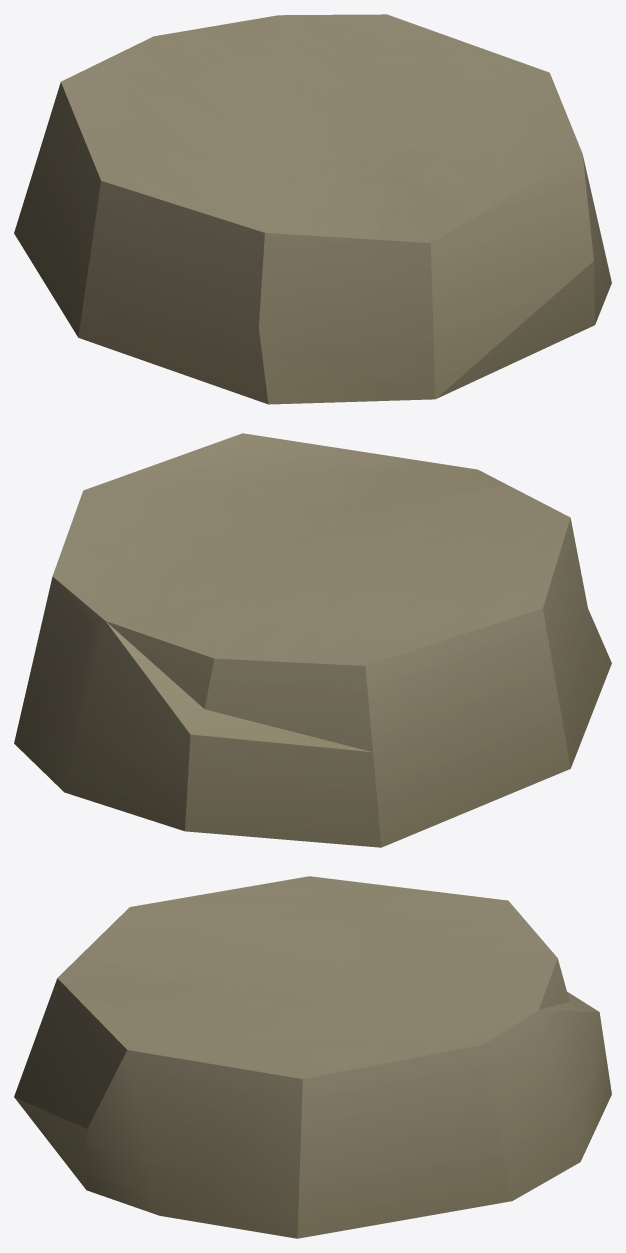
The model's file is Rock_mid_01.fbx.
3 renders of one model, top to bottom at view 1: azimuth 30°, elevation 25°; view 2: azimuth 150°, elevation 25°; view 3: azimuth 270°, elevation 25°, orthographic. The views are drawn at different scales.
Visible parts, largest first — view 1: Rock_mid_01; view 2: Rock_mid_01; view 3: Rock_mid_01.
Boxes of the visible parts, x1=… form: Rock_mid_01: x1=14, y1=14, x2=611, y2=404; Rock_mid_01: x1=14, y1=433, x2=611, y2=847; Rock_mid_01: x1=14, y1=876, x2=611, y2=1238.
Size of the model in its own units: 143 by 42.4 by 155.
